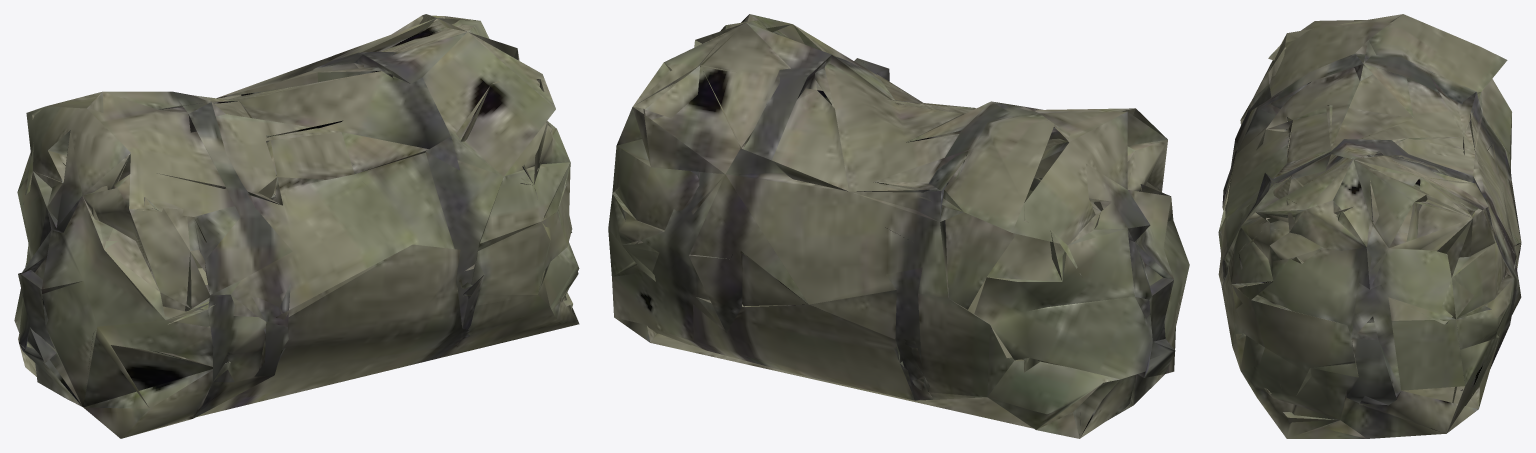
The model's file is sandbags_1617038676_lod0.glb.
The picture shows the model from 3 angles, left to right: view 1: azimuth 30°, elevation 25°; view 2: azimuth 150°, elevation 25°; view 3: azimuth 270°, elevation 25°; orthographic projection. The views are drawn at different scales.
Size of the model in its own units: 2.58 by 1.39 by 1.46.
1 material, 1 textured.
